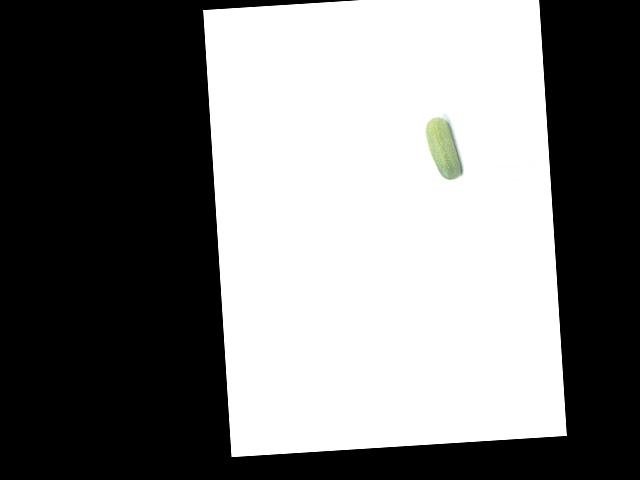cucumber: (425, 116, 462, 181)
